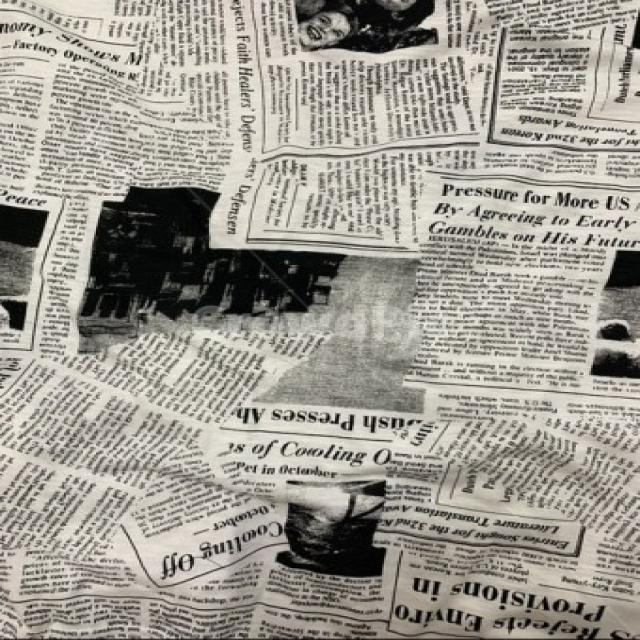Newspaper: (43, 15, 591, 602)
